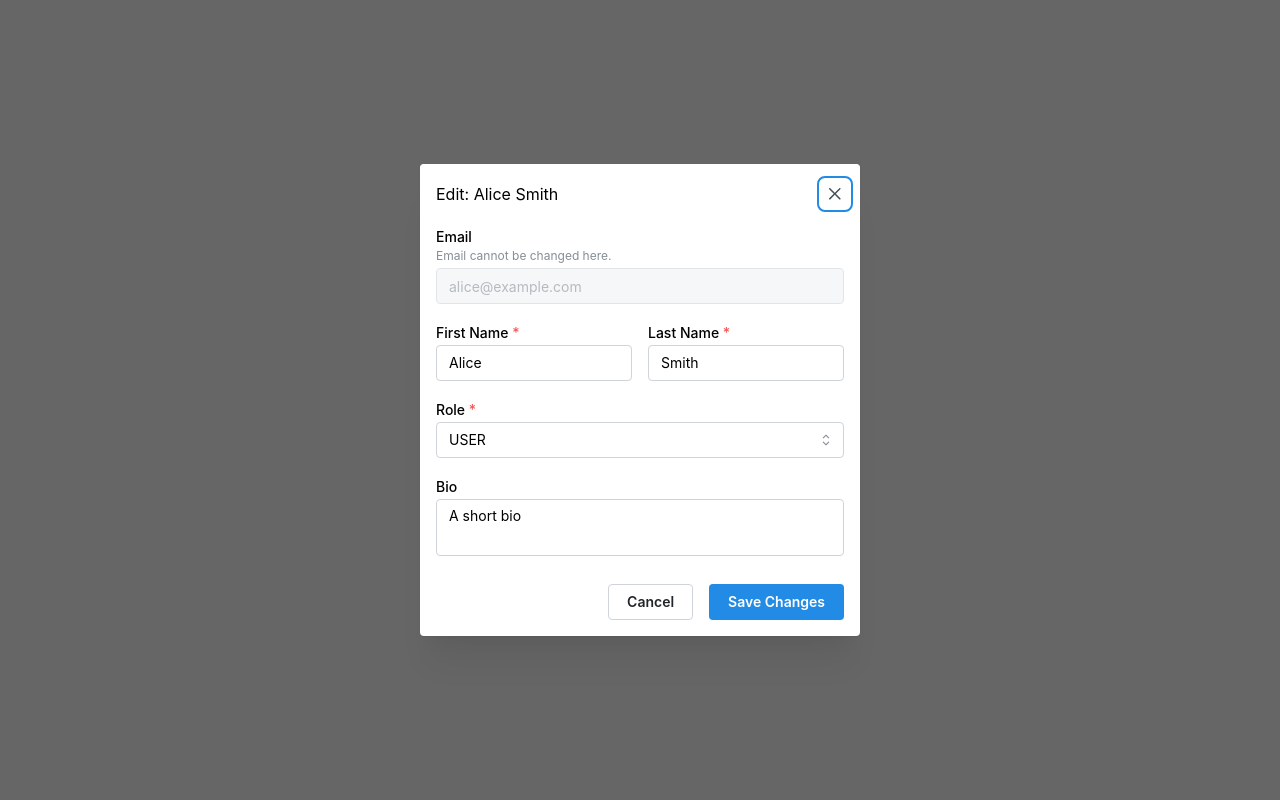
Test: EditUserModal › shows form-level error alert
Click the button "Save Changes" at x=777, y=602, box [709,584,844,620]
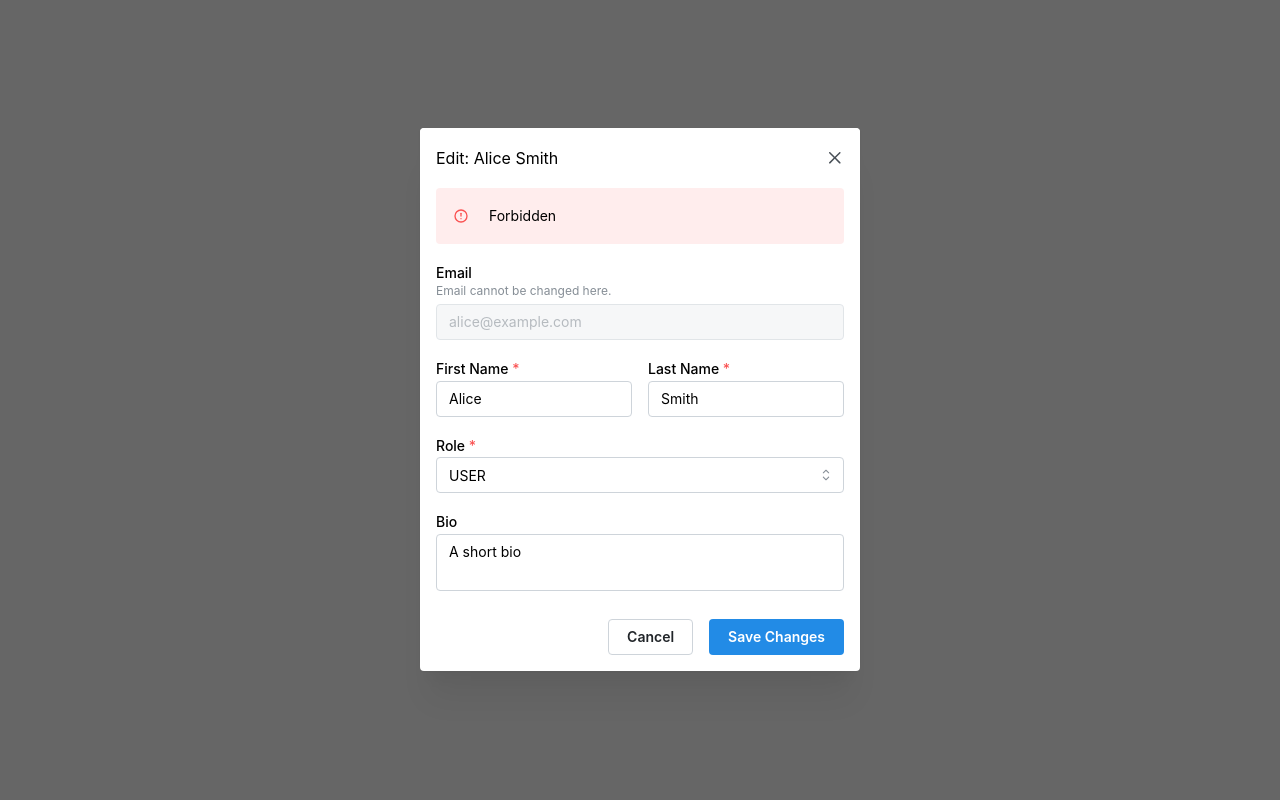
Expected: the text "Forbidden" is shown, [489,207,556,224]
